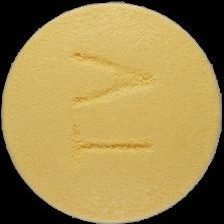51285-431: (0, 0, 224, 224)
